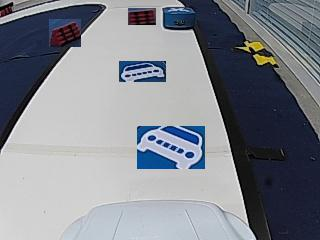prop: (163, 7, 196, 30)
